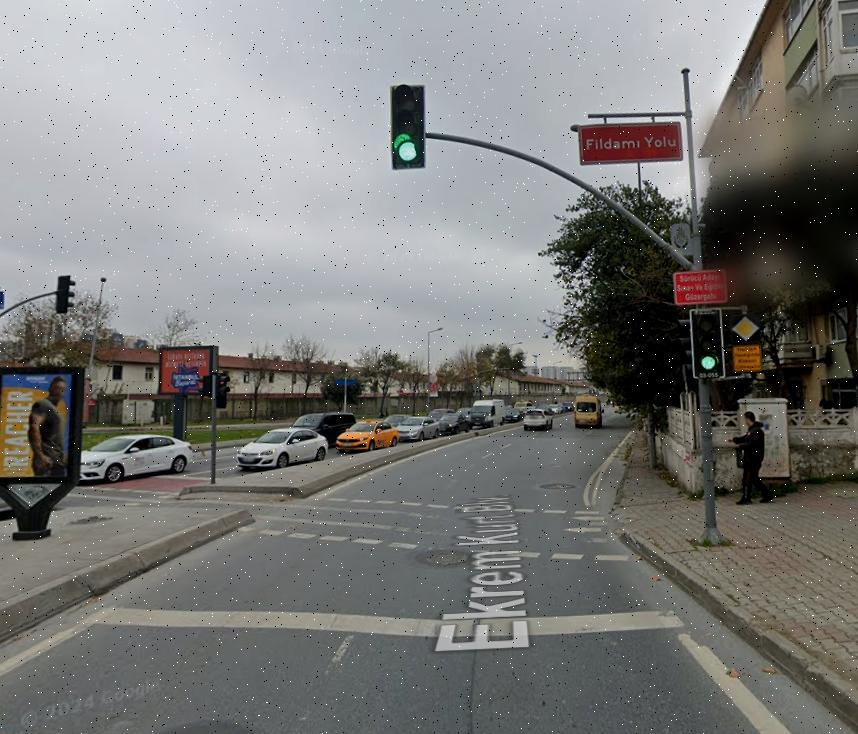greenlight: (393, 83, 425, 170), (695, 307, 728, 382)
